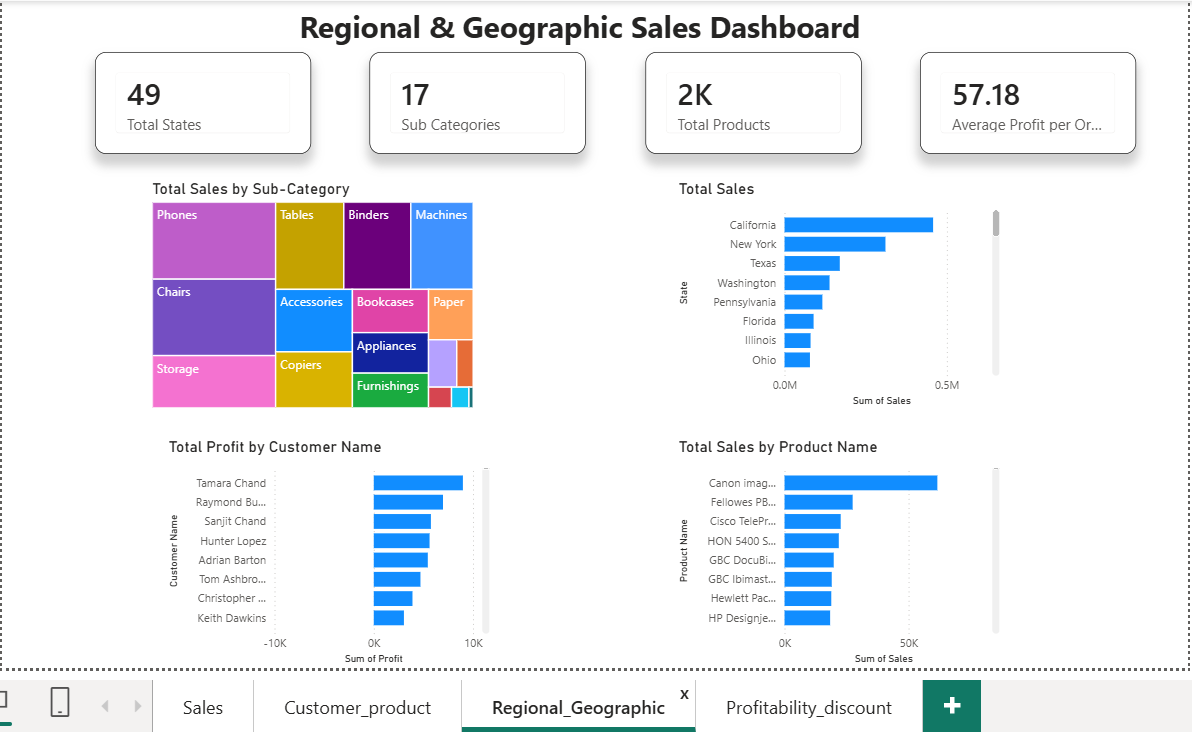

The dashboard page shown, as its layout file describes it:
{"tool":"powerbi","page":{"name":"Regional_Geographic","canvas":[1280,720],"ordinal":2},"visuals":[{"type":"textbox","box":[315.7,0,642.8,53.4],"z":0},{"type":"treemap","title":"Total  Sales by Sub-Category","fields":{"Group":["Orders.Sub-Category"],"Values":["Sum(Orders.Sales)"]},"box":[157.1,192.7,356.2,251],"z":0,"group":"g2"},{"type":"barChart","title":"Total Sales by Product Name","fields":{"Category":["Orders.Product Name"],"Y":["Sum(Orders.Sales)"]},"box":[725.4,470.6,356.2,249.4],"z":0,"group":"g3"},{"type":"group","id":"g1","title":"Group 1","box":[100.4,55.1,1123.7,110.1],"z":1000},{"type":"cardVisual","fields":{"Data":["Orders.Total States"]},"box":[100.4,55.1,233.2,110.1],"z":1000,"group":"g1"},{"type":"barChart","title":"Total Sales","fields":{"Y":["Sum(Orders.Sales)"],"Category":["Orders.State"]},"box":[725.4,192.7,356.2,249.4],"z":1000,"group":"g2"},{"type":"barChart","title":"Total Profit by Customer Name","fields":{"Category":["Orders.Customer Name"],"Y":["Sum(Orders.Profit)"]},"box":[174.9,470.6,356.2,249.4],"z":1000,"group":"g3"},{"type":"cardVisual","fields":{"Data":["Orders.Sub Categories"]},"box":[397.3,55.1,233.2,110.1],"z":2000,"group":"g1"},{"type":"group","id":"g2","title":"Group 2","box":[157.1,192.7,924.6,251],"z":2000},{"type":"cardVisual","fields":{"Data":["Orders.Total Products"]},"box":[694.1,55.1,233.2,110.1],"z":3000,"group":"g1"},{"type":"group","id":"g3","title":"Group 3","box":[174.9,470.6,906.8,249.4],"z":3000},{"type":"cardVisual","fields":{"Data":["Orders.Average Profit per Order"]},"box":[991,55.1,233.2,110.1],"z":4000,"group":"g1"}]}

Visuals, with their boxes on the page's 1280x720 design canvas (x1, y1, x2, y2). These are canvas units, not pixel positions in the 1192x732 screenshot, which may show the page scaled, cropped or inside an application window:
textbox: [316, 0, 958, 53]
"Total  Sales by Sub-Category" treemap: [157, 193, 513, 444]
"Total Sales by Product Name" barChart: [725, 471, 1082, 720]
"Group 1" group: [100, 55, 1224, 165]
cardVisual - Orders.Total States: [100, 55, 334, 165]
"Total Sales" barChart: [725, 193, 1082, 442]
"Total Profit by Customer Name" barChart: [175, 471, 531, 720]
cardVisual - Orders.Sub Categories: [397, 55, 630, 165]
"Group 2" group: [157, 193, 1082, 444]
cardVisual - Orders.Total Products: [694, 55, 927, 165]
"Group 3" group: [175, 471, 1082, 720]
cardVisual - Orders.Average Profit per Order: [991, 55, 1224, 165]
